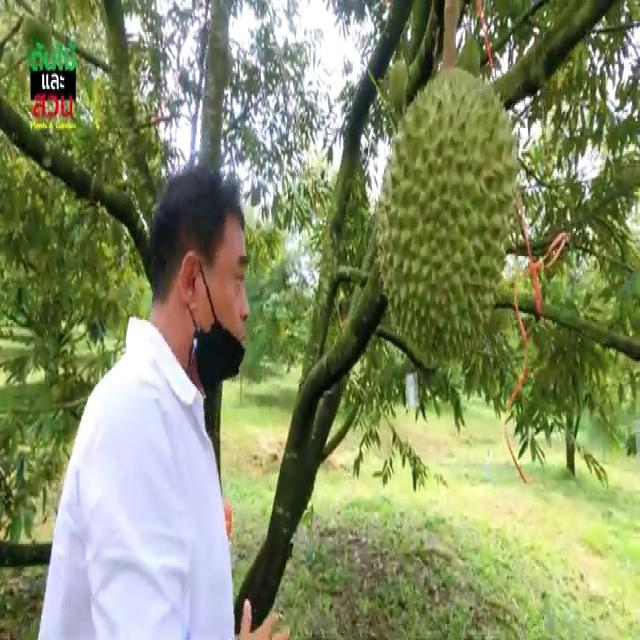durian: (373, 57, 524, 371)
